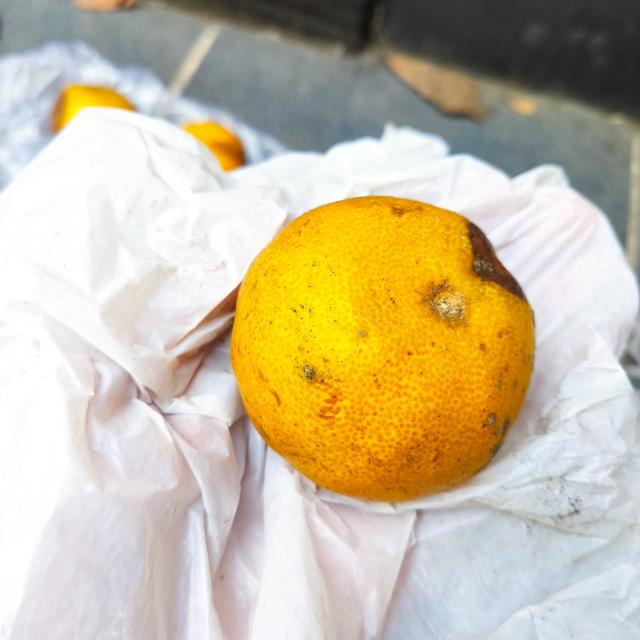orange: (228, 196, 538, 506)
